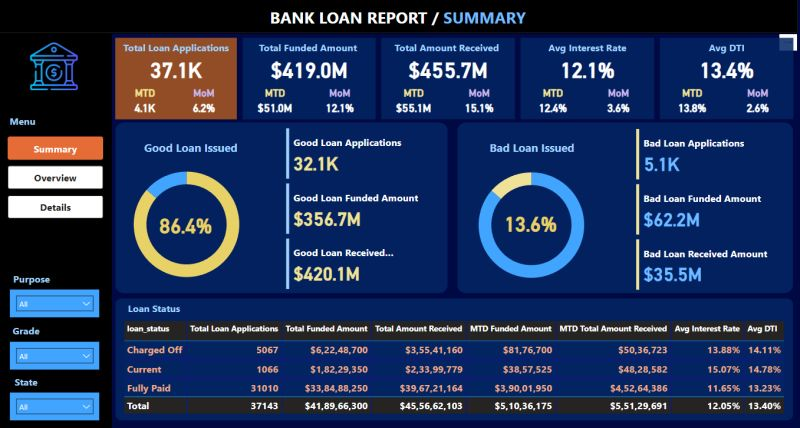

What the dashboard file says about the page in this screenshot:
{"tool":"powerbi","page":{"name":"Summary","canvas":[1335,720],"ordinal":0},"visuals":[{"type":"shape","box":[193.7,206.3,553.7,284.8],"z":0},{"type":"shape","box":[0,0,1330.1,57.8],"z":1000},{"type":"shape","box":[0,57.8,188,662.2],"z":2000},{"type":"textbox","box":[433.7,7.2,462.7,50.6],"z":3000},{"type":"shape","box":[194.3,64.6,202.7,136.1],"z":3000,"group":"g3"},{"type":"shape","box":[406.1,64.6,221.5,136.1],"z":3000,"group":"g2"},{"type":"shape","box":[636.8,64.6,222.7,135.9],"z":3000,"group":"g4"},{"type":"shape","box":[868.5,64.6,222.7,135.9],"z":3000,"group":"g5"},{"type":"shape","box":[1100.3,64.6,222.7,135.9],"z":3000,"group":"g6"},{"type":"group","id":"g1","title":"Group 1","box":[194.3,64.6,202.7,136.1],"z":4000},{"type":"card","fields":{"Values":["financial_loan.Total Loan Applications"]},"box":[194.3,83.4,202.7,65.2],"z":4000,"group":"g3"},{"type":"card","fields":{"Values":["financial_loan.Total Funded Amount"]},"box":[406.1,83.4,221.5,65.2],"z":4000,"group":"g2"},{"type":"card","fields":{"Values":["financial_loan.Total Amount Recieved"]},"box":[636.8,83.4,222.7,65.1],"z":4000,"group":"g4"},{"type":"card","fields":{"Values":["financial_loan.Avg Interest Rate"]},"box":[868.5,83.4,222.7,65.1],"z":4000,"group":"g5"},{"type":"card","fields":{"Values":["financial_loan.Avg DTI"]},"box":[1100.3,83.4,222.7,65.1],"z":4000,"group":"g6"},{"type":"textbox","box":[194.3,64.6,202.7,34.8],"z":5000,"group":"g3"},{"type":"group","id":"g2","title":"Group 2","box":[406.1,64.6,221.5,136.1],"z":5000},{"type":"textbox","box":[406.1,64.6,221.5,34.8],"z":5000,"group":"g2"},{"type":"textbox","box":[636.8,64.6,222.7,34.7],"z":5000,"group":"g4"},{"type":"textbox","box":[868.5,64.6,222.7,34.7],"z":5000,"group":"g5"},{"type":"textbox","box":[1100.3,64.6,222.7,34.7],"z":5000,"group":"g6"},{"type":"card","title":"MTD","fields":{"Values":["financial_loan.MTD Total Amount Received"]},"box":[655.6,147,70.8,52],"z":6000,"group":"g4"},{"type":"card","title":"MTD","fields":{"Values":["financial_loan.MTD Avg Int Rate"]},"box":[887.3,147,70.8,52],"z":6000,"group":"g5"},{"type":"card","title":"MTD","fields":{"Values":["financial_loan.MTD Avg DTI"]},"box":[1119.1,147,70.8,52],"z":6000,"group":"g6"},{"type":"card","title":"MTD","fields":{"Values":["financial_loan.MTD Loan Applications"]},"box":[211.4,147.1,64.5,52.1],"z":6000,"group":"g3"},{"type":"card","title":"MTD","fields":{"Values":["financial_loan.MTD Funded Amount"]},"box":[424.8,147.1,70.5,52.1],"z":6000,"group":"g2"},{"type":"textbox","box":[218.3,230.9,202.4,34.7],"z":6000},{"type":"card","title":"MoM","fields":{"Values":["financial_loan.MoM Total Amount Received"]},"box":[764,147,70.8,52],"z":7000,"group":"g4"},{"type":"card","title":"MoM","fields":{"Values":["financial_loan.MoM Avg Int Rate"]},"box":[995.7,147,70.8,52],"z":7000,"group":"g5"},{"type":"card","title":"MoM","fields":{"Values":["financial_loan.MoM Avg DTI"]},"box":[1227.5,147,70.8,52],"z":7000,"group":"g6"},{"type":"card","title":"MoM","fields":{"Values":["financial_loan.MoM Loan Application"]},"box":[310.1,147.1,64.5,52.1],"z":7000,"group":"g3"},{"type":"card","title":"MoM","fields":{"Values":["financial_loan.MoM Total Funded Amount"]},"box":[532.7,147.1,70.5,52.1],"z":7000,"group":"g2"},{"type":"pageNavigator","box":[14.5,229.9,159,137.3],"z":7000},{"type":"group","id":"g3","title":"Group 2","box":[194.3,64.6,202.7,136.1],"z":7002,"group":"g1"},{"type":"donutChart","fields":{"Category":["financial_loan.Good vs Bad Loan"],"Y":["financial_loan.Total Loan Applications"]},"box":[188,261.3,250.1,229.9],"z":8000},{"type":"card","fields":{"Values":["financial_loan.Good Loan %"]},"box":[229.9,343.7,163.4,65.1],"z":9000},{"type":"group","id":"g4","title":"Group 2","box":[636.8,64.6,222.7,135.9],"z":10000},{"type":"group","id":"g5","title":"Group 2","box":[868.5,64.6,222.7,135.9],"z":11000},{"type":"group","id":"g6","title":"Group 2","box":[1100.3,64.6,223,136.1],"z":12000},{"type":"shape","box":[763.4,206.3,559.5,284.8],"z":13000},{"type":"donutChart","fields":{"Category":["financial_loan.Good vs Bad Loan"],"Y":["financial_loan.Total Loan Applications"]},"box":[761.9,262.7,250.1,229.9],"z":14000},{"type":"cardVisual","fields":{"Data":["financial_loan.Good Loan Applications","financial_loan.Good Loan Funded Amount","financial_loan.Good Loan Received Amount"]},"box":[474.2,210.7,250.1,279],"z":15000},{"type":"card","fields":{"Values":["financial_loan.Bad Loan %"]},"box":[803.9,340.8,163.4,65.1],"z":16000},{"type":"cardVisual","fields":{"Data":["financial_loan.Bad Loan Applications","financial_loan.Bad Loan Funded Amount","financial_loan.Bad Loan Received Amount"]},"box":[1056.9,212.1,250.1,279],"z":17000},{"type":"textbox","box":[786.5,230.9,202.4,34.7],"z":18000},{"type":"image","box":[33.3,57.8,115.7,112.8],"z":19000},{"type":"textbox","box":[1.8,187.5,76.6,34.7],"z":20000},{"type":"slicer","fields":{"Values":["financial_loan.Good vs Bad Loan"]},"box":[18.8,434.7,148.9,54.9],"z":21000},{"type":"textbox","box":[2.9,400,104.1,34.7],"z":22000},{"type":"slicer","fields":{"Values":["financial_loan.grade"]},"box":[18.8,543.1,148.9,54.9],"z":23000},{"type":"slicer","fields":{"Values":["financial_loan.address_state"]},"box":[18.8,647.1,148.9,54.9],"z":24000},{"type":"textbox","box":[0,508.4,91.1,34.7],"z":25000},{"type":"textbox","box":[0,612.4,91.1,34.7],"z":26000},{"type":"shape","box":[193.7,498.8,1129.2,203.9],"z":27000},{"type":"tableEx","fields":{"Values":["financial_loan.loan_status","financial_loan.Total Loan Applications","financial_loan.Total Funded Amount","financial_loan.Total Amount Received","financial_loan.MTD Funded Amount","financial_loan.MTD Total Amount Received","financial_loan.Avg Interest Rate","financial_loan.Avg DTI"]},"box":[202.4,533.1,1111.8,170.6],"z":28000},{"type":"textbox","box":[192.3,499.8,131.6,34.7],"z":29000}]}

Visuals, with their boxes in screenshot pixels (x1, y1, x2, y2), scaled from the page's 1335x720 canvas onto the 800x428 screenshot:
shape: bbox=[116, 123, 448, 292]
shape: bbox=[0, 0, 797, 34]
shape: bbox=[0, 34, 113, 427]
textbox: bbox=[260, 4, 537, 34]
shape: bbox=[116, 38, 238, 119]
shape: bbox=[243, 38, 376, 119]
shape: bbox=[382, 38, 515, 119]
shape: bbox=[520, 38, 654, 119]
shape: bbox=[659, 38, 793, 119]
"Group 1" group: bbox=[116, 38, 238, 119]
card - financial_loan.Total Loan Applications: bbox=[116, 50, 238, 88]
card - financial_loan.Total Funded Amount: bbox=[243, 50, 376, 88]
card - financial_loan.Total Amount Recieved: bbox=[382, 50, 515, 88]
card - financial_loan.Avg Interest Rate: bbox=[520, 50, 654, 88]
card - financial_loan.Avg DTI: bbox=[659, 50, 793, 88]
textbox: bbox=[116, 38, 238, 59]
"Group 2" group: bbox=[243, 38, 376, 119]
textbox: bbox=[243, 38, 376, 59]
textbox: bbox=[382, 38, 515, 59]
textbox: bbox=[520, 38, 654, 59]
textbox: bbox=[659, 38, 793, 59]
"MTD" card: bbox=[393, 87, 435, 118]
"MTD" card: bbox=[532, 87, 574, 118]
"MTD" card: bbox=[671, 87, 713, 118]
"MTD" card: bbox=[127, 87, 165, 118]
"MTD" card: bbox=[255, 87, 297, 118]
textbox: bbox=[131, 137, 252, 158]
"MoM" card: bbox=[458, 87, 500, 118]
"MoM" card: bbox=[597, 87, 639, 118]
"MoM" card: bbox=[736, 87, 778, 118]
"MoM" card: bbox=[186, 87, 224, 118]
"MoM" card: bbox=[319, 87, 361, 118]
pageNavigator: bbox=[9, 137, 104, 218]
"Group 2" group: bbox=[116, 38, 238, 119]
donutChart - financial_loan.Good vs Bad Loan x financial_loan.Total Loan Applications: bbox=[113, 155, 263, 292]
card - financial_loan.Good Loan %: bbox=[138, 204, 236, 243]
"Group 2" group: bbox=[382, 38, 515, 119]
"Group 2" group: bbox=[520, 38, 654, 119]
"Group 2" group: bbox=[659, 38, 793, 119]
shape: bbox=[457, 123, 793, 292]
donutChart - financial_loan.Good vs Bad Loan x financial_loan.Total Loan Applications: bbox=[457, 156, 606, 293]
cardVisual - financial_loan.Good Loan Applications x financial_loan.Good Loan Funded Amount: bbox=[284, 125, 434, 291]
card - financial_loan.Bad Loan %: bbox=[482, 203, 580, 241]
cardVisual - financial_loan.Bad Loan Applications x financial_loan.Bad Loan Funded Amount: bbox=[633, 126, 783, 292]
textbox: bbox=[471, 137, 593, 158]
image: bbox=[20, 34, 89, 101]
textbox: bbox=[1, 111, 47, 132]
slicer - financial_loan.Good vs Bad Loan: bbox=[11, 258, 100, 291]
textbox: bbox=[2, 238, 64, 258]
slicer - financial_loan.grade: bbox=[11, 323, 100, 355]
slicer - financial_loan.address_state: bbox=[11, 385, 100, 417]
textbox: bbox=[0, 302, 55, 323]
textbox: bbox=[0, 364, 55, 385]
shape: bbox=[116, 297, 793, 418]
tableEx - financial_loan.loan_status x financial_loan.Total Loan Applications: bbox=[121, 317, 788, 418]
textbox: bbox=[115, 297, 194, 318]
